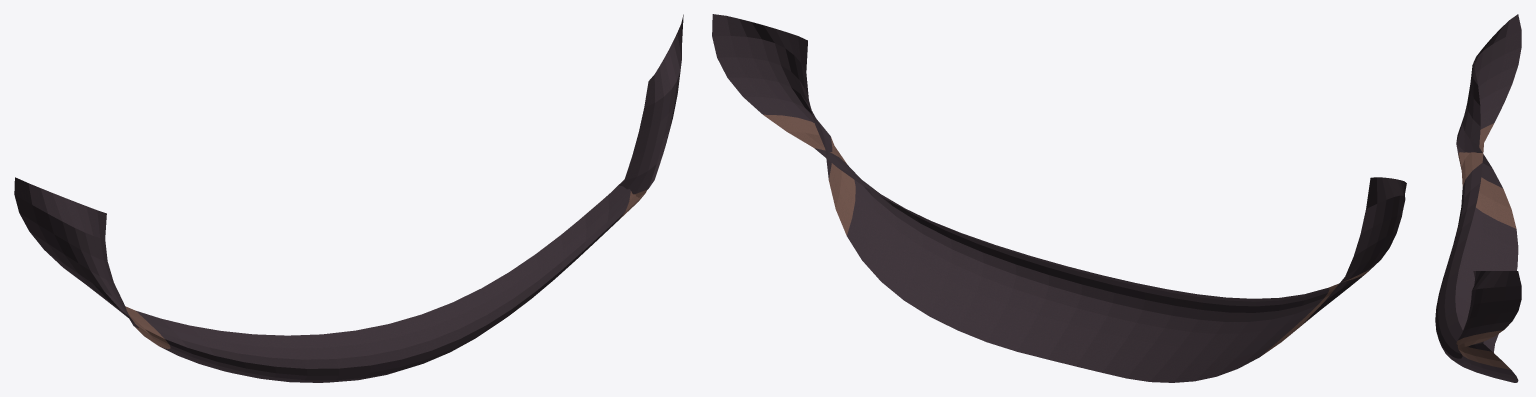
File: facial_short_beard_default.gltf
3 renders of one model, left to right at view 1: azimuth 30°, elevation 25°; view 2: azimuth 150°, elevation 25°; view 3: azimuth 270°, elevation 25°, orthographic. The views are drawn at different scales.
Visible parts, largest first — view 1: Short Beard default; view 2: Short Beard default; view 3: Short Beard default.
Boxes of the visible parts, x1=… form: Short Beard default: x1=14, y1=14, x2=683, y2=382; Short Beard default: x1=712, y1=14, x2=1406, y2=382; Short Beard default: x1=1435, y1=14, x2=1521, y2=382.
Bounding box in the file's own units: 0.348 × 0.134 × 0.0494.
2 materials, 2 textured.
